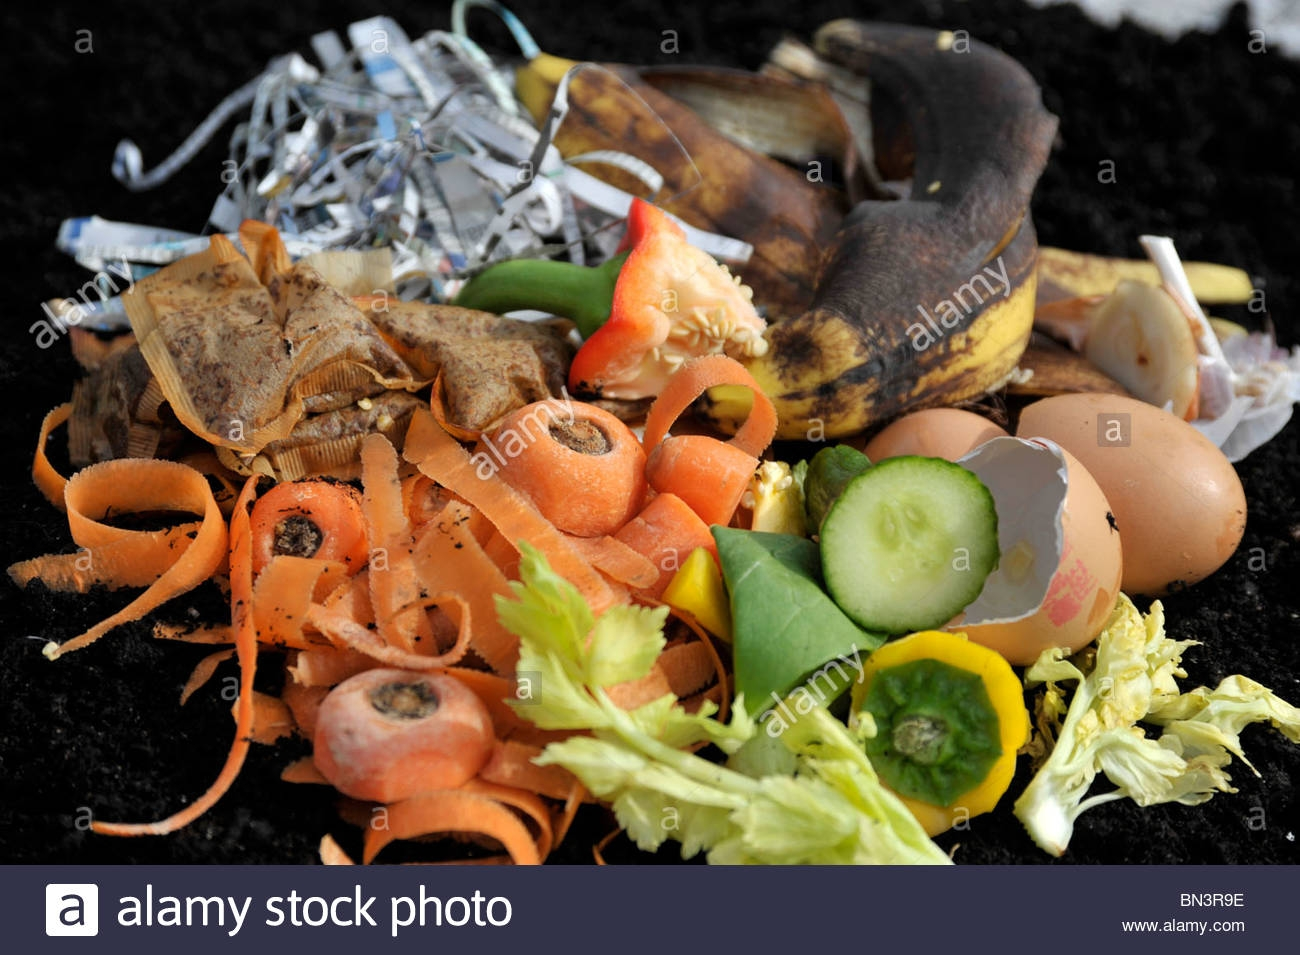kitchen_waste: (700, 2, 1146, 432), (463, 530, 966, 869), (491, 37, 878, 315), (92, 228, 457, 493), (996, 574, 1300, 861), (994, 357, 1289, 620), (900, 412, 1145, 709), (470, 196, 794, 401), (835, 631, 1079, 846), (25, 441, 246, 674), (690, 508, 904, 723), (798, 434, 1006, 653), (311, 660, 550, 818), (460, 379, 677, 546), (616, 361, 821, 520)
paper: (128, 12, 625, 299)
